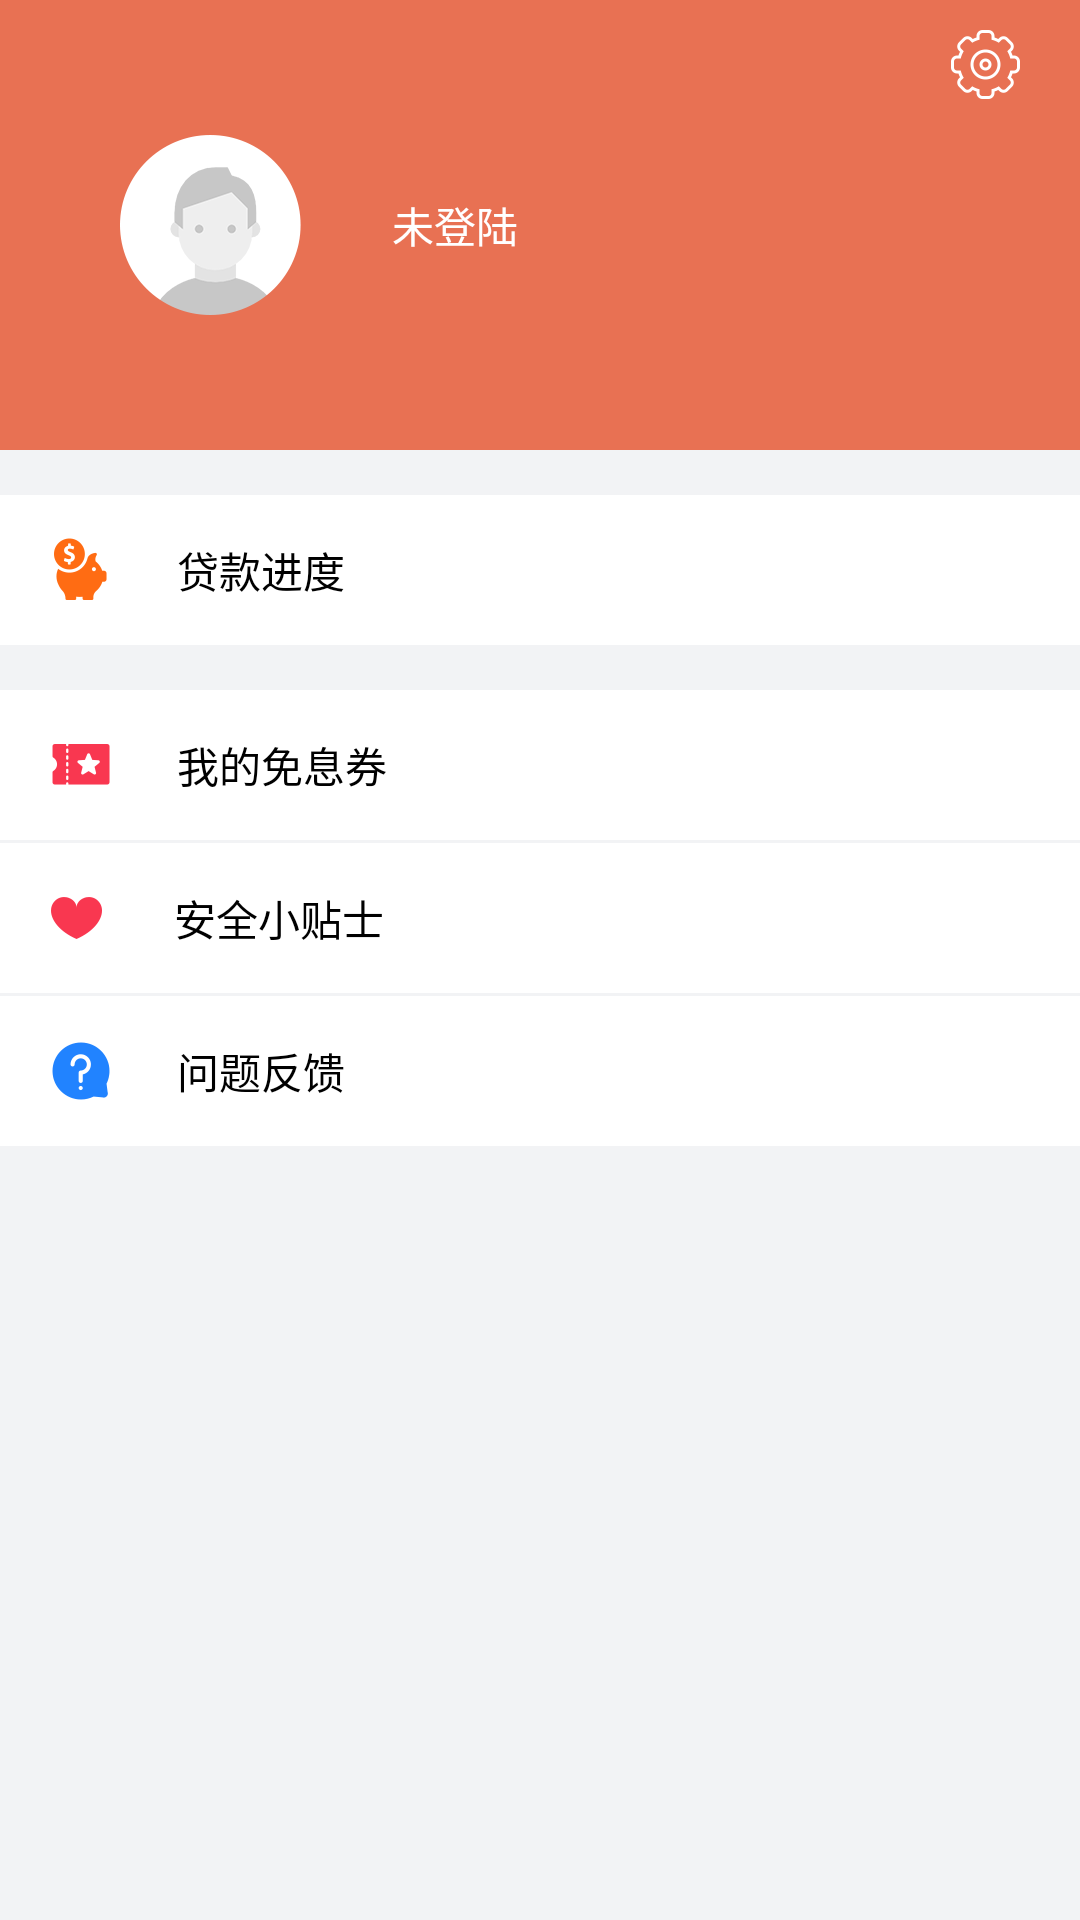

Icons on this 1080*1920 Android screen, each with the point to tap as [x,y]:
feedback: [81,1071]
free: [81,764]
headportrait: [210,225]
settings: [985,64]
